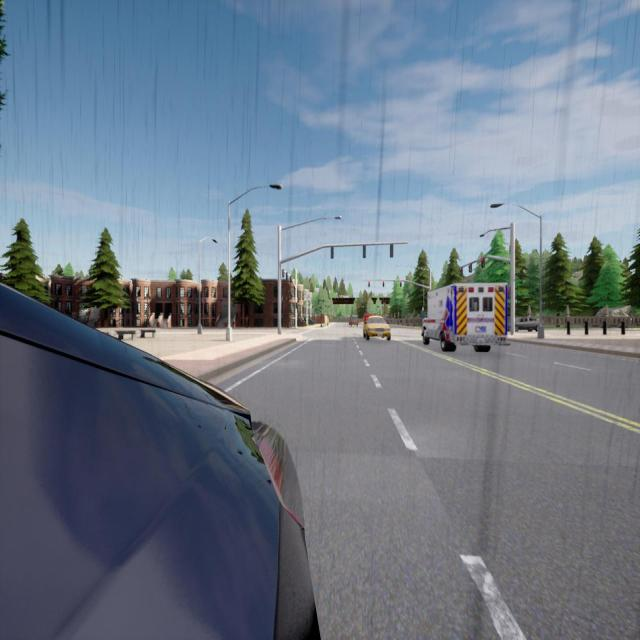Vehicle: (0, 286, 321, 640), (422, 282, 508, 352), (363, 316, 391, 342), (514, 316, 542, 332), (349, 314, 358, 328), (363, 313, 372, 323), (361, 337, 361, 338)
traffic_light: (390, 244, 393, 258), (468, 262, 472, 272), (481, 258, 485, 268), (331, 246, 334, 259), (363, 245, 366, 258), (460, 267, 462, 276), (286, 272, 288, 280), (400, 280, 402, 287), (368, 280, 370, 287), (382, 280, 384, 287), (282, 270, 284, 277), (290, 276, 292, 282)
